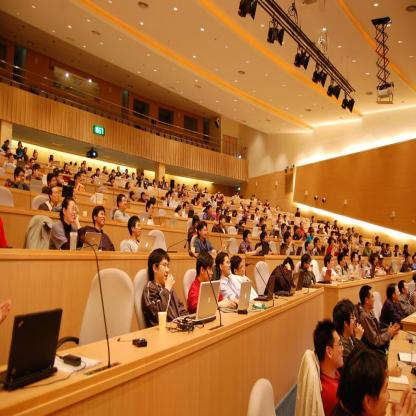board: (5, 306, 62, 396), (177, 282, 221, 324), (227, 282, 252, 315), (275, 272, 299, 298), (254, 276, 276, 303), (81, 233, 102, 253), (136, 235, 157, 254), (254, 242, 271, 256), (217, 239, 231, 255), (336, 269, 352, 283), (317, 270, 332, 284), (349, 268, 364, 282), (29, 178, 43, 192), (92, 191, 104, 205), (276, 242, 288, 256), (138, 210, 149, 225), (296, 272, 304, 290), (61, 186, 73, 197), (365, 265, 376, 277), (16, 158, 26, 170), (169, 217, 177, 229), (329, 247, 335, 258), (42, 173, 47, 185), (253, 226, 258, 238), (306, 226, 313, 234), (296, 247, 302, 256), (386, 266, 392, 275), (176, 198, 183, 205), (274, 230, 280, 238), (318, 227, 324, 235), (97, 179, 103, 186), (172, 202, 179, 208), (226, 216, 232, 223), (351, 247, 357, 254), (390, 251, 396, 258), (250, 213, 255, 221), (289, 220, 295, 226), (376, 250, 380, 256)
